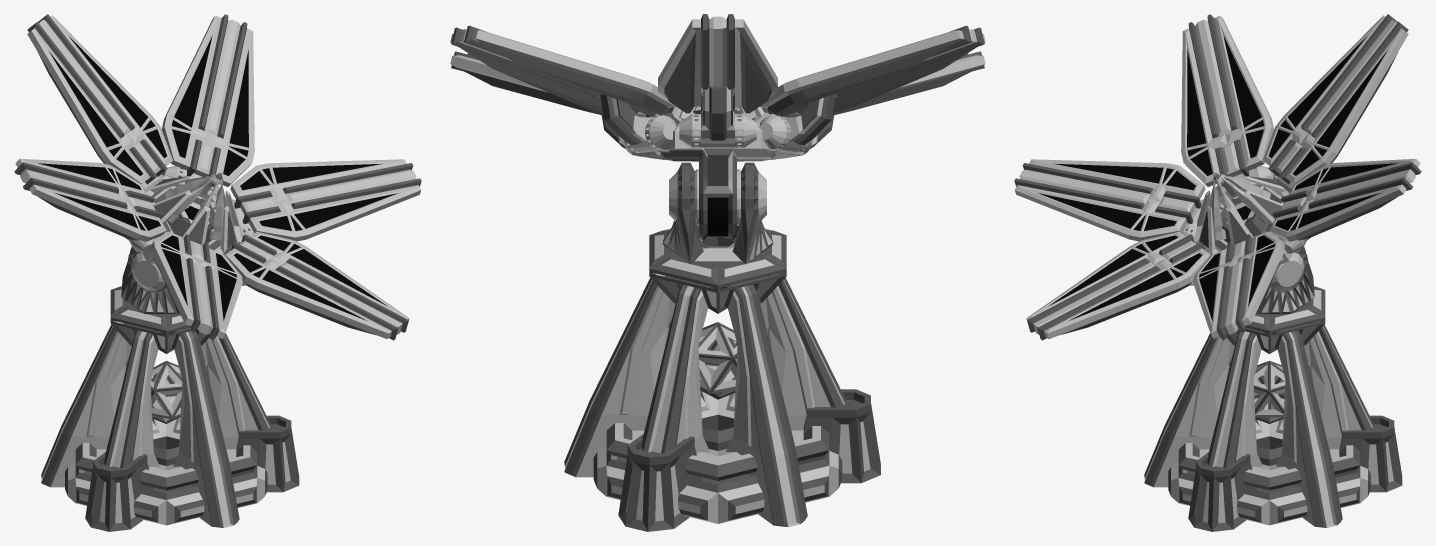
File: SatelliteDish.dae
3 views of the same model, side by side, from view 1: azimuth 30°, elevation 25°; view 2: azimuth 150°, elevation 25°; view 3: azimuth 270°, elevation 25° (orthographic). The views are drawn at different scales.
Parts seen in each view (by area): view 1: SatelliteDish; view 2: SatelliteDish; view 3: SatelliteDish.
Boxes of the visible parts, x1,y1,x2,y2 form: SatelliteDish: (14, 14, 421, 531); SatelliteDish: (450, 14, 985, 531); SatelliteDish: (1014, 14, 1421, 531).
Bounding box in the file's own units: 40.62 × 34.94 × 40.91.
